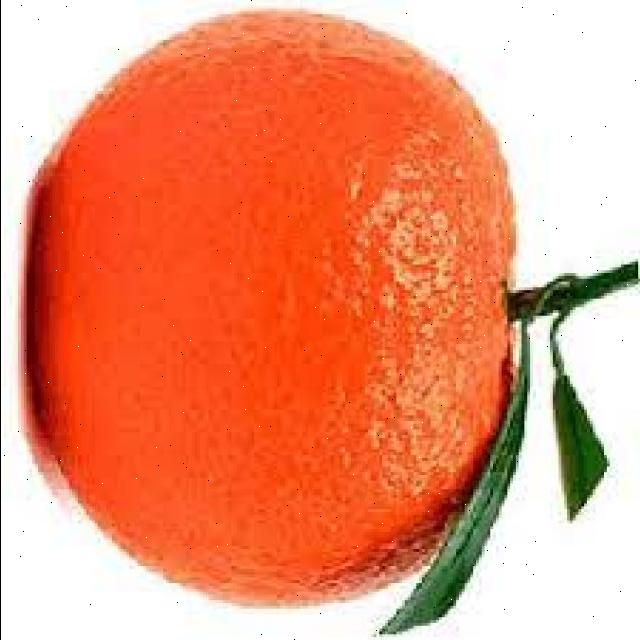Orange: (25, 8, 522, 609)
